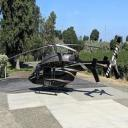helicopter: (13, 30, 122, 99)
